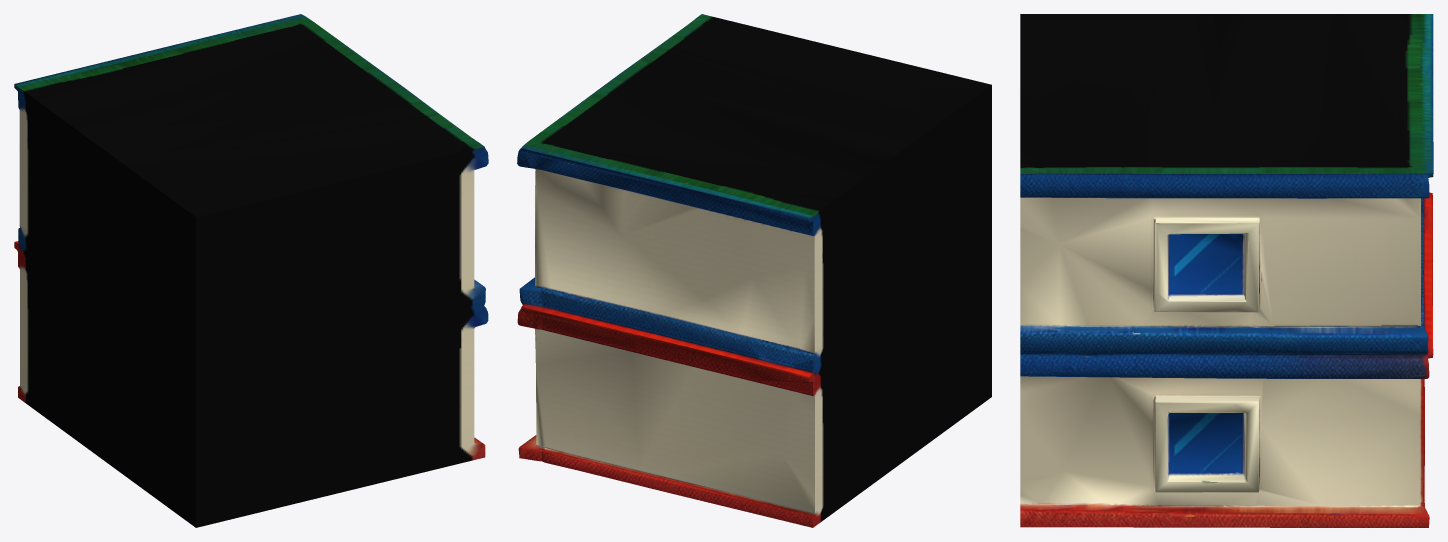
The model's file is 8-upper-walls-back-right.fbx.
3 views of the same model, side by side, from view 1: azimuth 30°, elevation 25°; view 2: azimuth 150°, elevation 25°; view 3: azimuth 270°, elevation 25° (orthographic). The views are drawn at different scales.
Visible parts, largest first — view 1: upper-walls-back-right; view 2: upper-walls-back-right; view 3: upper-walls-back-right.
Part boxes in pixels (left/top/right/bottom): upper-walls-back-right: left=14, top=14, right=488, bottom=527; upper-walls-back-right: left=517, top=14, right=991, bottom=527; upper-walls-back-right: left=1020, top=14, right=1433, bottom=527.
Size of the model in its own units: 5031 by 5098 by 5406.
1 material, 1 textured.
